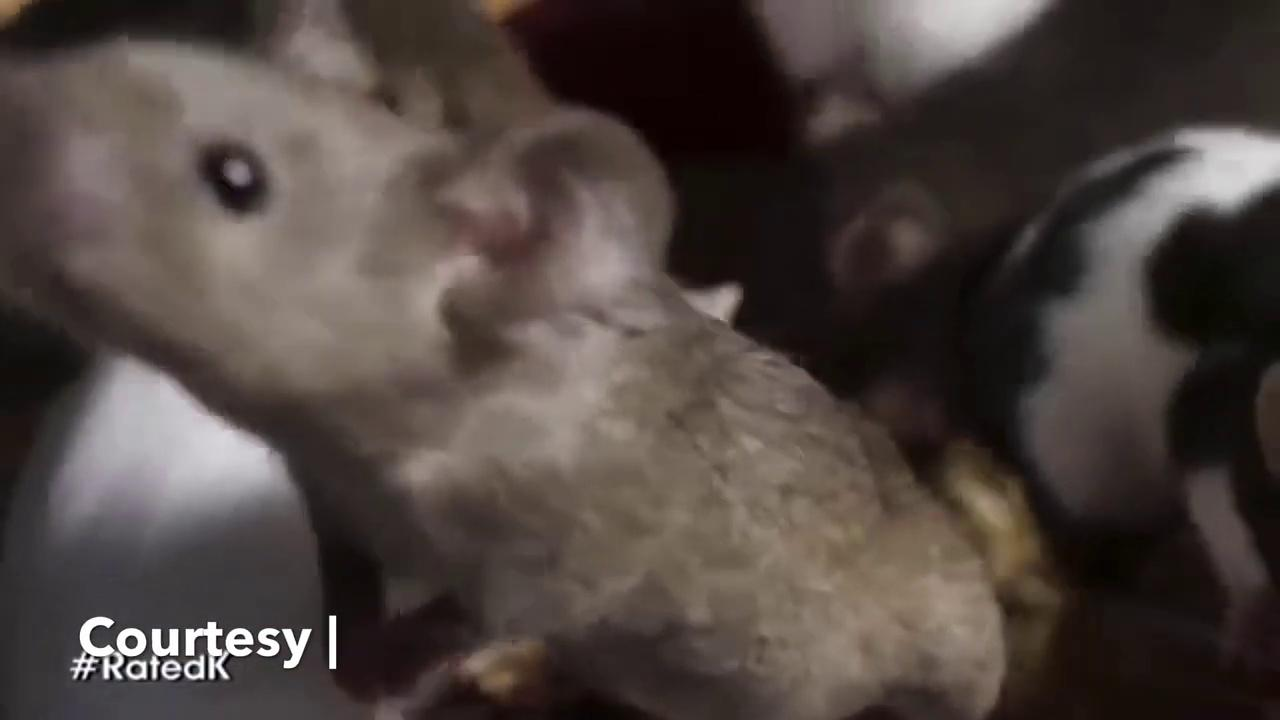rat: (3, 9, 1006, 717)
